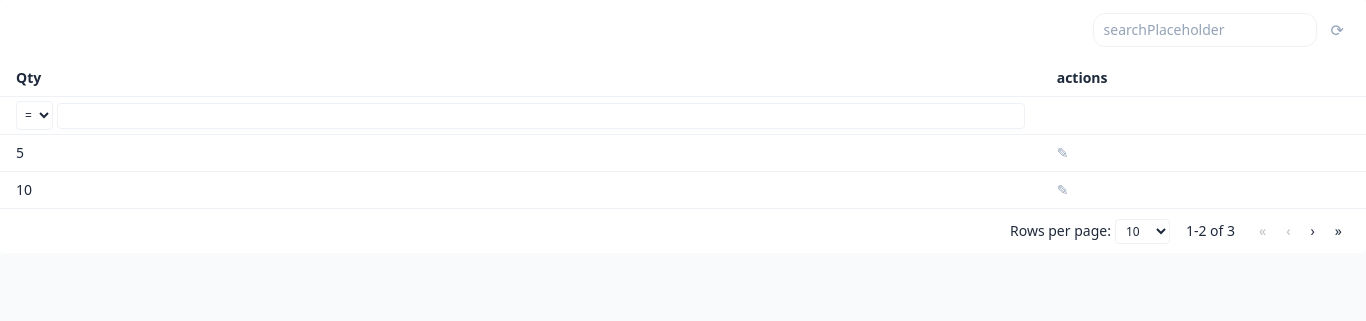
Test: Table › inline edit blocks cleared numeric string with required error
Click the 1st button titled "editTooltip": [1063, 153] box x1=1057 y1=143 x2=1068 y2=163
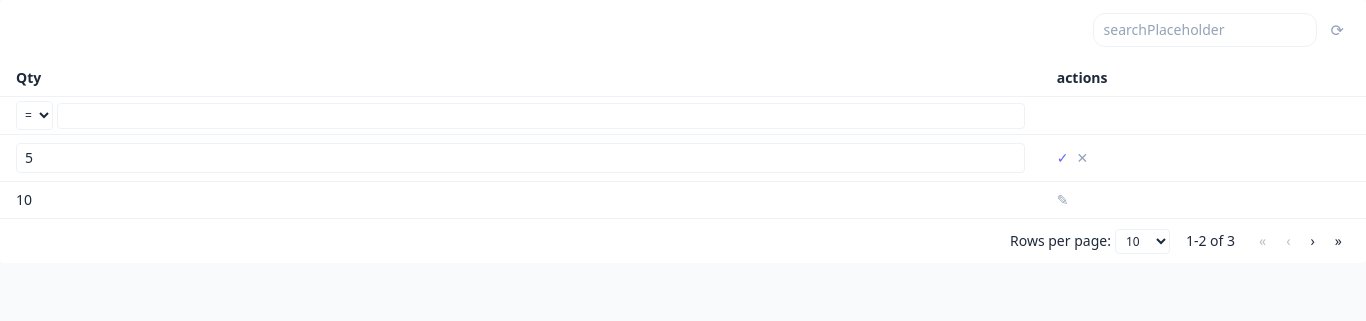
Clear the number field showing "5": [520, 158] box x1=16 y1=143 x2=1025 y2=173
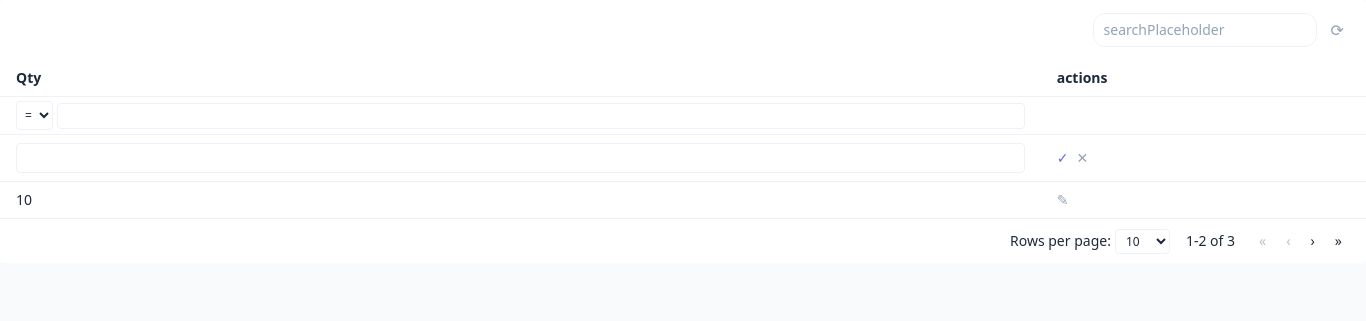
Click the button titled "saveTooltip": [1063, 158] box x1=1057 y1=148 x2=1068 y2=168
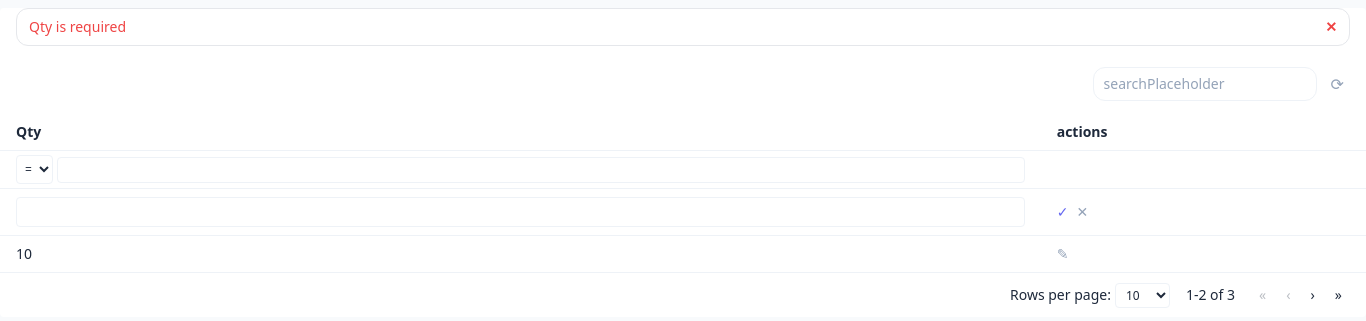
expect the message shows "Qty is required": met, box x1=29 y1=17 x2=126 y2=36
